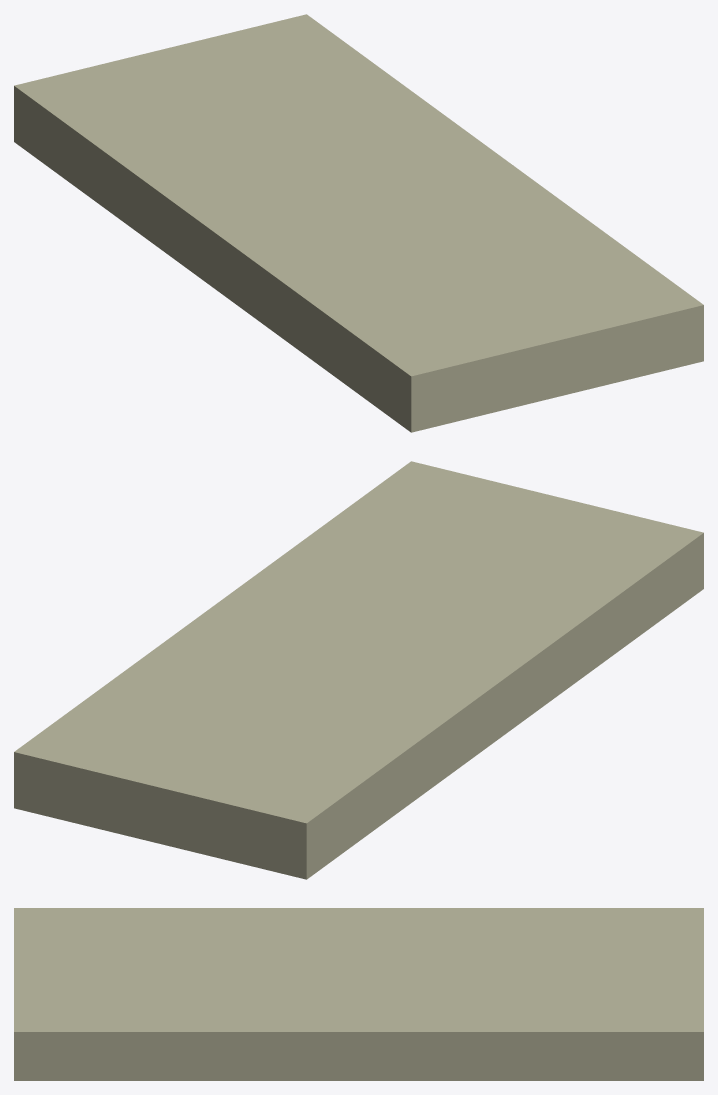
Rendered from lights1.fbx.
The picture shows the model from 3 angles, top to bottom: view 1: azimuth 30°, elevation 25°; view 2: azimuth 150°, elevation 25°; view 3: azimuth 270°, elevation 25°; orthographic projection. The views are drawn at different scales.
Visible parts, largest first — view 1: Cube; view 2: Cube; view 3: Cube.
Boxes of the visible parts, x1,y1,x2,y2 form: Cube: (14,14,703,432); Cube: (14,461,703,879); Cube: (14,908,703,1080).
Bounding box in the file's own units: 200 × 470 × 38.98.
